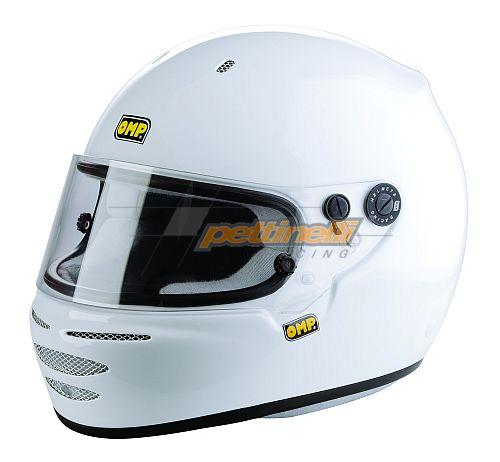helmet: (39, 34, 462, 420)
